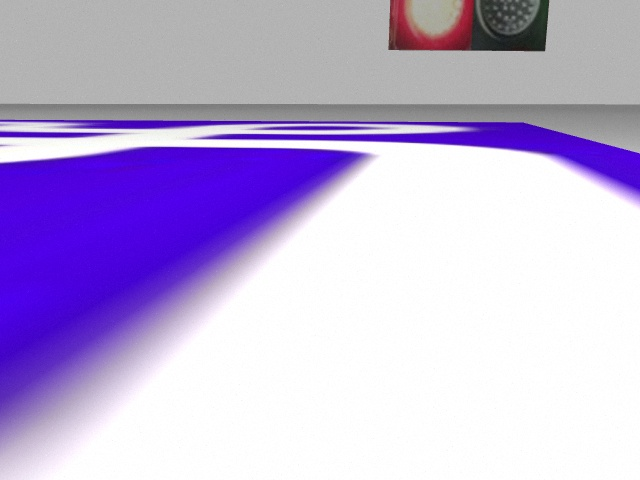red: (390, 2, 473, 52)
